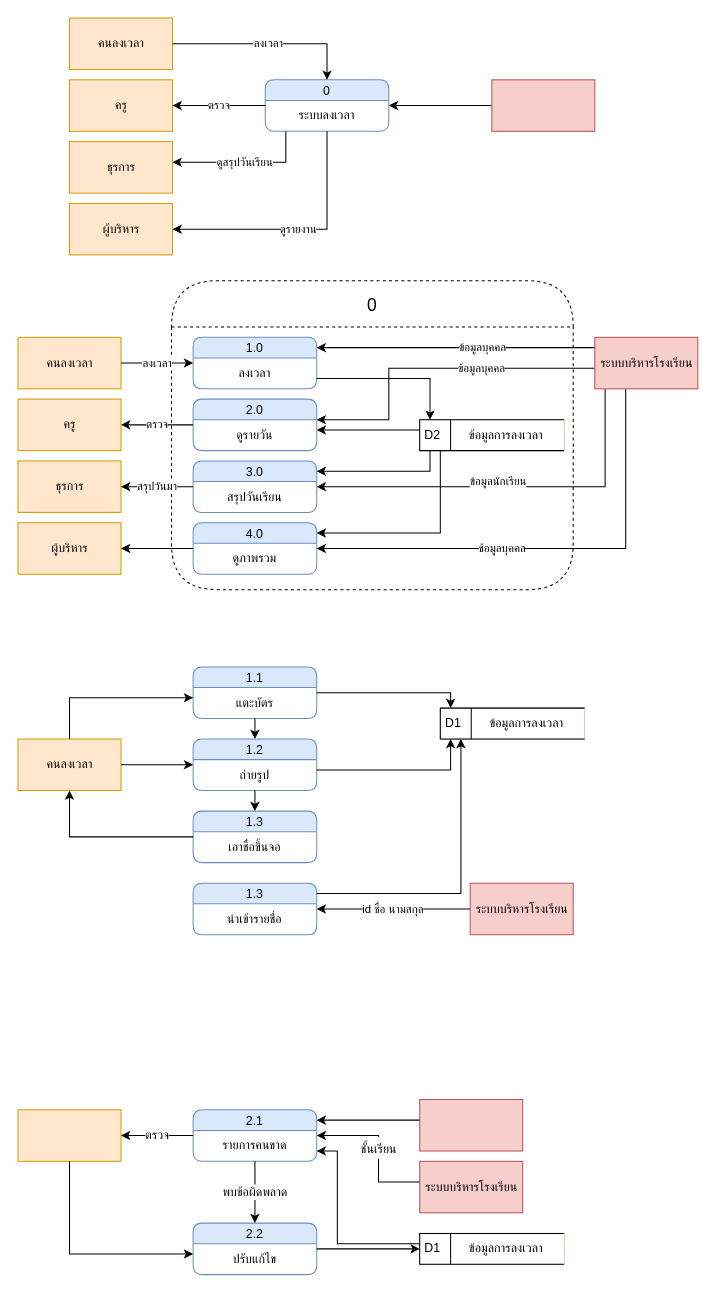
Image size: 716x1293. Some labels were removed from this diagram. The shapes that lost their labels are listed below. From the top down, each one's centre as x and y in pixels, then its label:
the point at 543,105: ระบบบริหาร ทรัพยากรบุคคล
the point at 69,1135: ครู รายวิชา
the point at 471,1124: ข้อมูลการลา จากธุรการ
